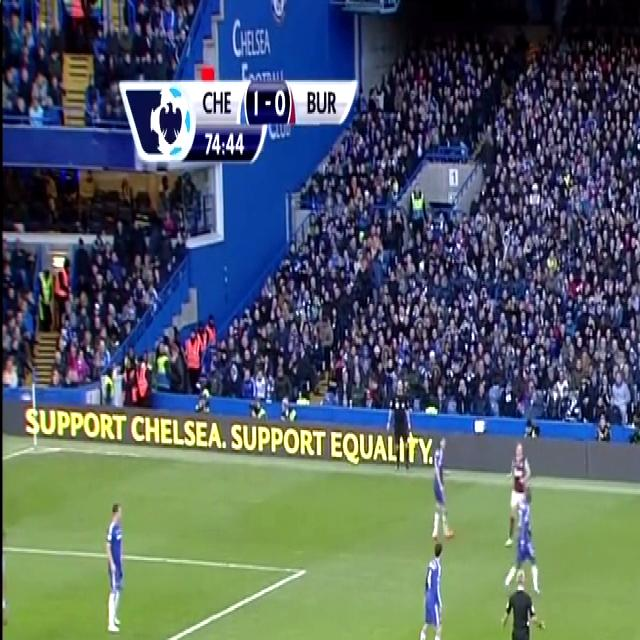referee: (386, 369, 421, 477), (501, 554, 543, 640)
soccer-player: (100, 494, 136, 640), (511, 483, 544, 609), (410, 535, 449, 640), (424, 429, 457, 547), (504, 432, 532, 545)
